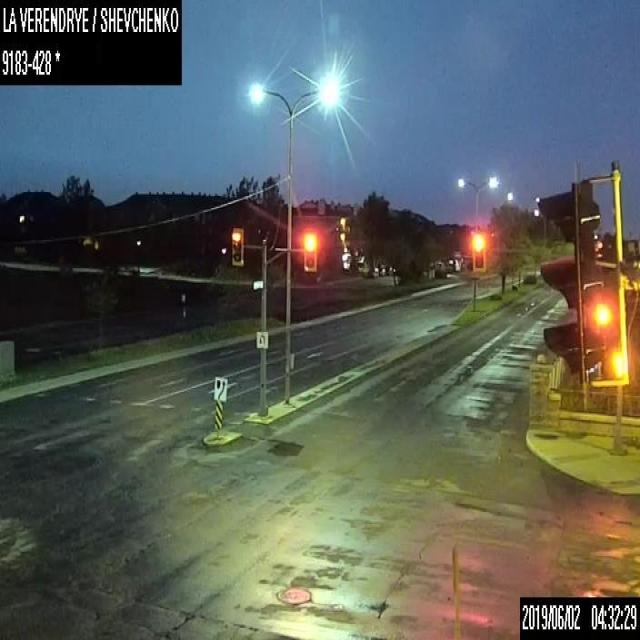vehicle: (367, 266, 378, 275), (378, 266, 384, 276)
